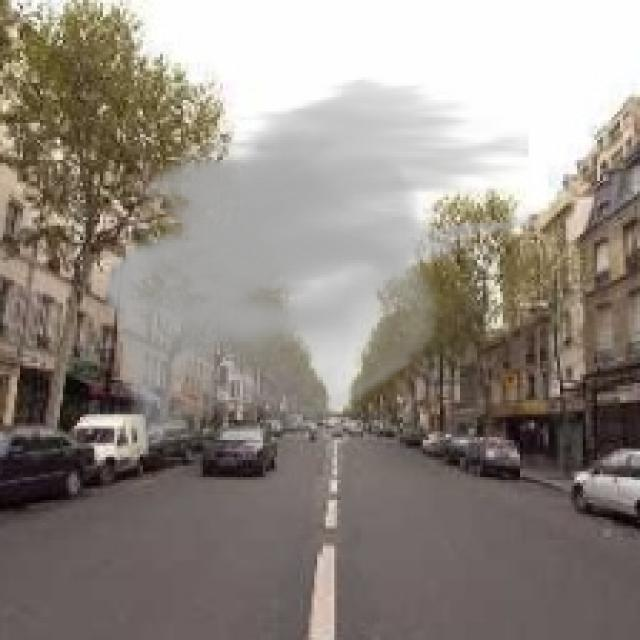smoke: (103, 74, 528, 443)
